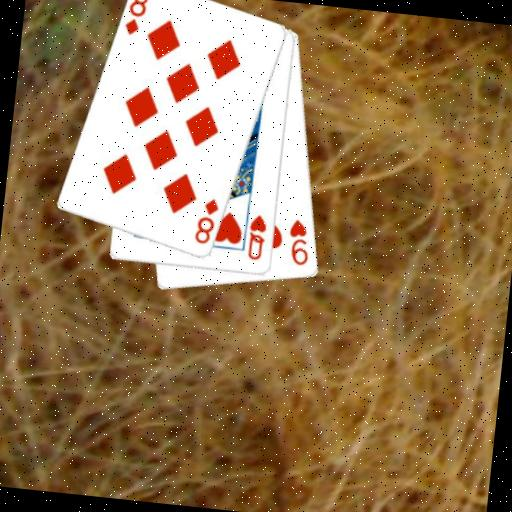8D: (191, 194, 222, 247), (121, 0, 152, 38)
9H: (283, 216, 315, 268)
QH: (243, 212, 270, 264)
